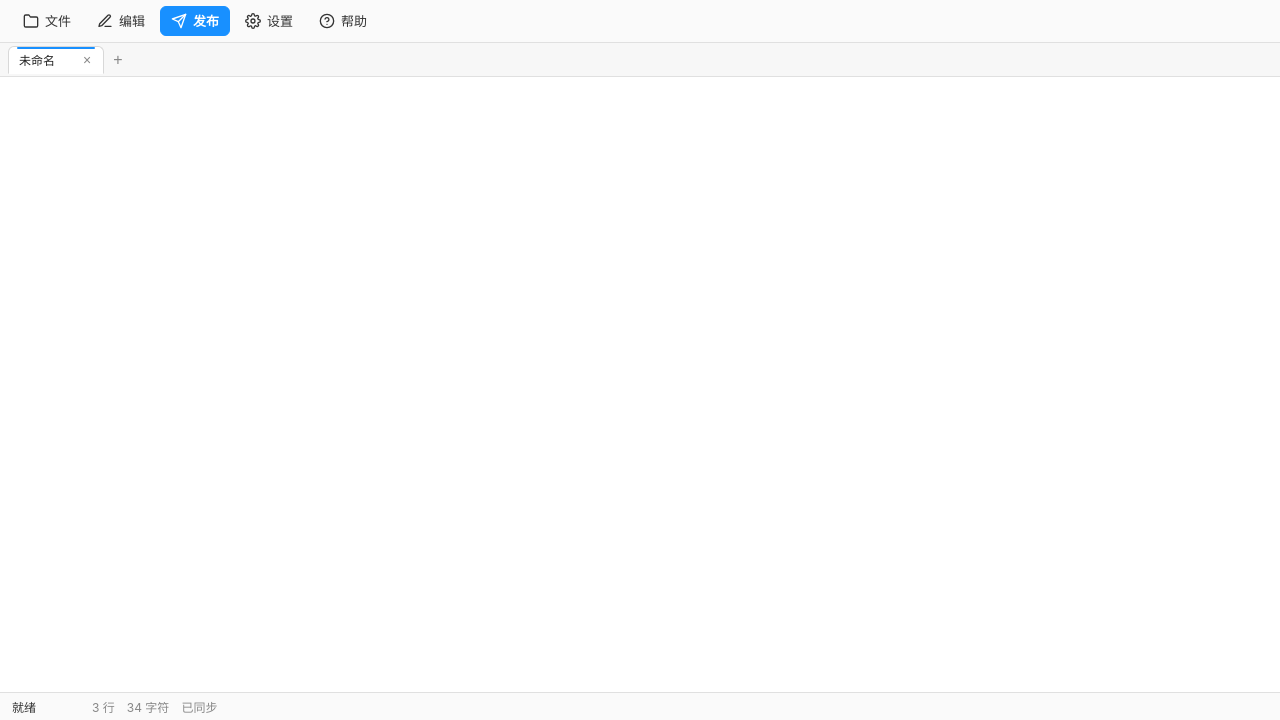
Test: App › keeps the file tree toggle in the file menu
Click the button "文件" at (47,21), box x1=12 y1=6 x2=82 y2=36
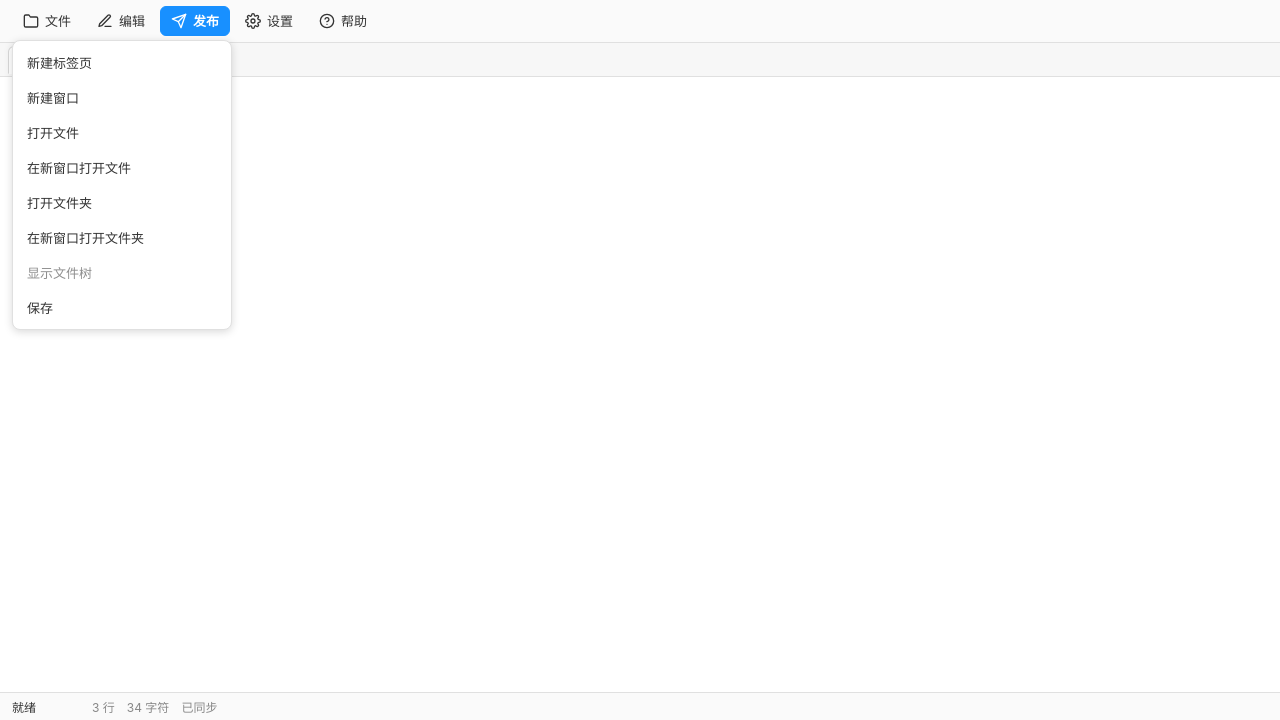
Check: the button "显示文件树" is disabled, box x1=17 y1=255 x2=227 y2=290
